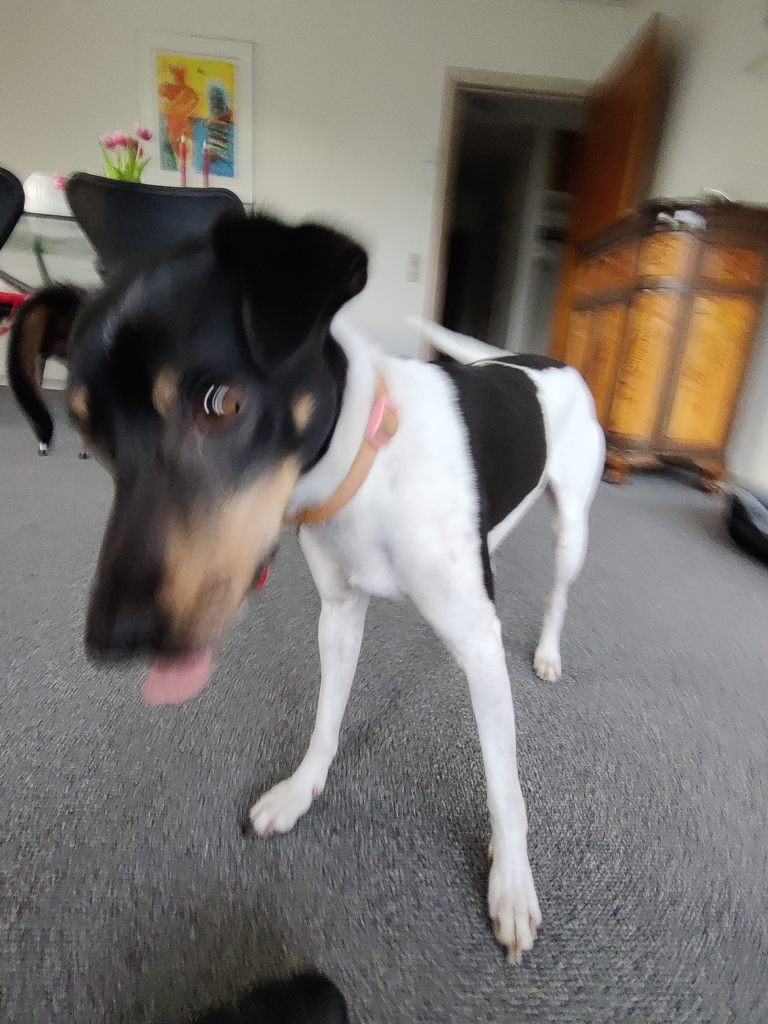Dog: (0, 189, 618, 973)
Humanoid: (194, 950, 362, 1024)
